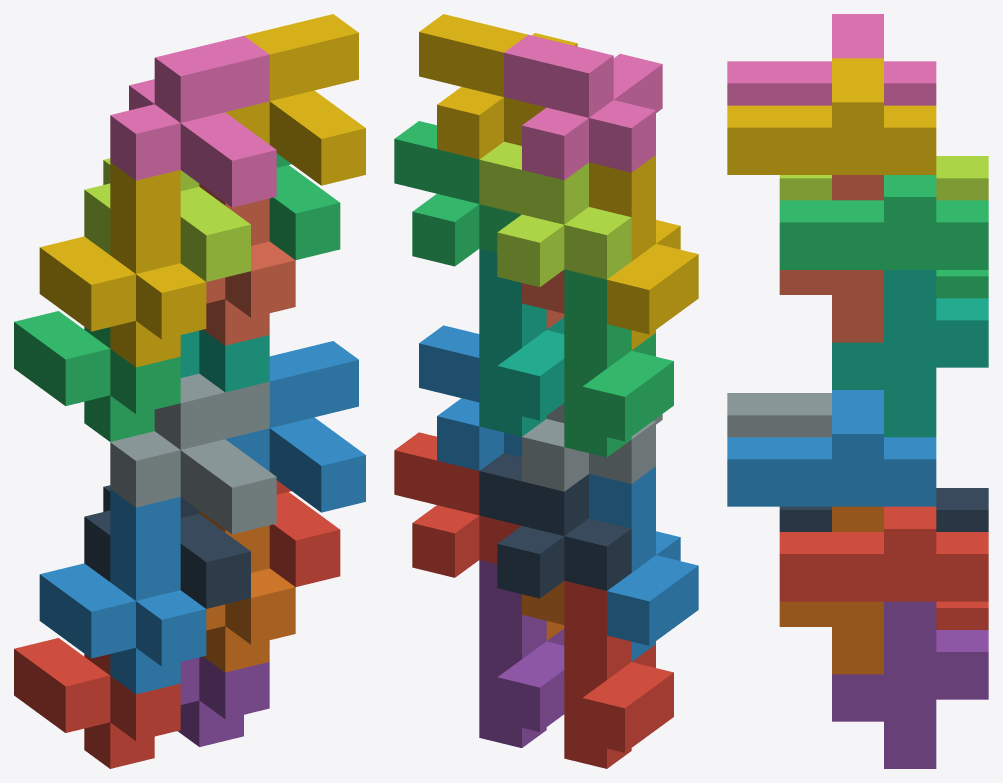
Rendered from tiling.obj.
3 renders of one model, left to right at view 1: azimuth 30°, elevation 25°; view 2: azimuth 150°, elevation 25°; view 3: azimuth 270°, elevation 25°, orthographic. The views are drawn at different scales.
Parts seen in each view (by area): view 1: copy_1_domain_4, copy_1_domain_2, copy_2_domain_4, copy_2_domain_2, copy_2_domain_8, copy_2_domain_6, copy_1_domain_3, copy_1_domain_1, copy_1_domain_8, copy_1_domain_6, copy_2_domain_3, copy_2_domain_1 (+4 smaller); view 2: copy_2_domain_4, copy_1_domain_3, copy_2_domain_1, copy_2_domain_3, copy_1_domain_1, copy_1_domain_7, copy_1_domain_5, copy_2_domain_8, copy_1_domain_2, copy_1_domain_4, copy_2_domain_7, copy_2_domain_5 (+4 smaller); view 3: copy_2_domain_6, copy_2_domain_8, copy_2_domain_5, copy_2_domain_7, copy_1_domain_5, copy_1_domain_7, copy_2_domain_4, copy_1_domain_6, copy_1_domain_8, copy_2_domain_2, copy_2_domain_3, copy_2_domain_1 (+2 smaller).
Part boxes in pixels (left/top/right/bottom): copy_1_domain_4: left=39, top=162, right=206, bottom=367; copy_1_domain_2: left=39, top=489, right=206, bottom=694; copy_2_domain_4: left=110, top=36, right=276, bottom=207; copy_2_domain_2: left=110, top=373, right=276, bottom=534; copy_2_domain_8: left=225, top=14, right=365, bottom=185; copy_2_domain_6: left=225, top=341, right=365, bottom=512; copy_1_domain_3: left=14, top=311, right=180, bottom=441; copy_1_domain_1: left=14, top=638, right=180, bottom=768; copy_1_domain_8: left=199, top=184, right=295, bottom=345; copy_1_domain_6: left=199, top=511, right=295, bottom=672; copy_2_domain_3: left=84, top=158, right=250, bottom=281; copy_2_domain_1: left=84, top=485, right=250, bottom=608; copy_2_domain_4: left=504, top=34, right=662, bottom=180; copy_1_domain_3: left=564, top=269, right=673, bottom=457; copy_2_domain_1: left=479, top=453, right=631, bottom=598; copy_2_domain_3: left=479, top=141, right=631, bottom=287; copy_1_domain_1: left=564, top=580, right=673, bottom=768; copy_1_domain_7: left=479, top=248, right=564, bottom=436; copy_1_domain_5: left=479, top=560, right=564, bottom=747; copy_2_domain_8: left=419, top=14, right=577, bottom=159; copy_1_domain_2: left=589, top=466, right=698, bottom=661; copy_1_domain_4: left=589, top=155, right=698, bottom=349; copy_2_domain_7: left=394, top=121, right=521, bottom=266; copy_2_domain_5: left=394, top=432, right=521, bottom=577; copy_2_domain_6: left=727, top=390, right=936, bottom=506; copy_2_domain_8: left=727, top=58, right=936, bottom=174; copy_2_domain_5: left=779, top=506, right=988, bottom=601; copy_2_domain_7: left=779, top=175, right=988, bottom=269; copy_1_domain_5: left=832, top=601, right=988, bottom=768; copy_1_domain_7: left=832, top=270, right=988, bottom=437; copy_2_domain_4: left=727, top=14, right=936, bottom=105; copy_1_domain_6: left=779, top=506, right=883, bottom=674; copy_1_domain_8: left=779, top=175, right=883, bottom=342; copy_2_domain_2: left=727, top=393, right=831, bottom=437; copy_2_domain_3: left=779, top=156, right=988, bottom=200; copy_2_domain_1: left=779, top=488, right=988, bottom=531.
Bounding box in the file's own units: 6 × 15 × 5.
